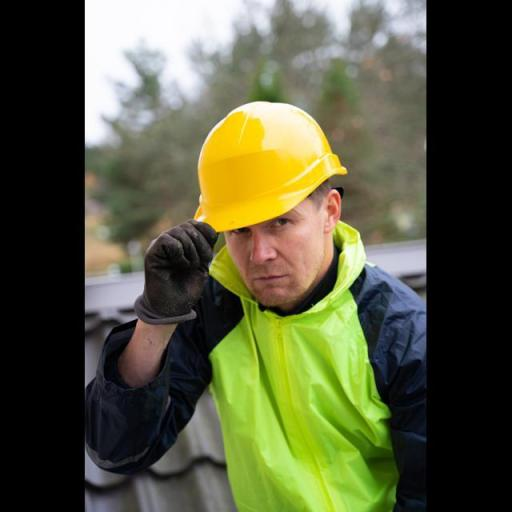Person: (68, 43, 434, 509)
gloves: (122, 212, 223, 333)
helmet: (178, 95, 356, 239)
